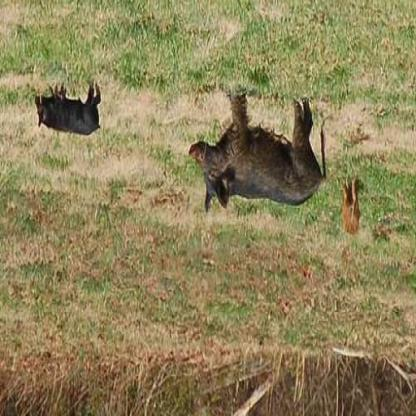boar: (181, 79, 342, 232)
